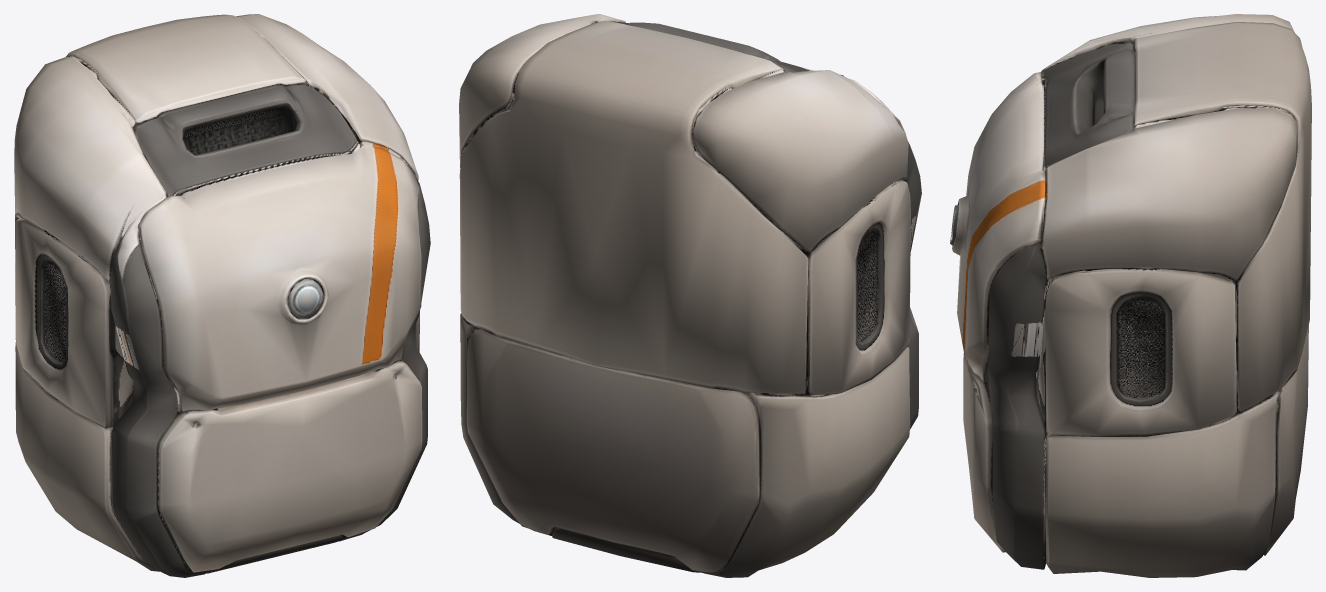
3 views of the same model, side by side, from view 1: azimuth 30°, elevation 25°; view 2: azimuth 150°, elevation 25°; view 3: azimuth 270°, elevation 25° (orthographic). The views are drawn at different scales.
Parts seen in each view (by area): view 1: tripo_node_a5b20c51-f634-4596-937d-4bf353f80333; view 2: tripo_node_a5b20c51-f634-4596-937d-4bf353f80333; view 3: tripo_node_a5b20c51-f634-4596-937d-4bf353f80333.
Boxes of the visible parts, x1,y1,x2,y2 form: tripo_node_a5b20c51-f634-4596-937d-4bf353f80333: (14,14,430,577); tripo_node_a5b20c51-f634-4596-937d-4bf353f80333: (459,14,921,577); tripo_node_a5b20c51-f634-4596-937d-4bf353f80333: (950,14,1311,577).
Bounding box in the file's own units: 0.7752 × 0.9781 × 0.6833.
Materials: 1 (1 with a texture image).
